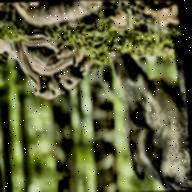boar: (113, 41, 192, 191), (17, 53, 74, 113), (45, 50, 96, 94)
